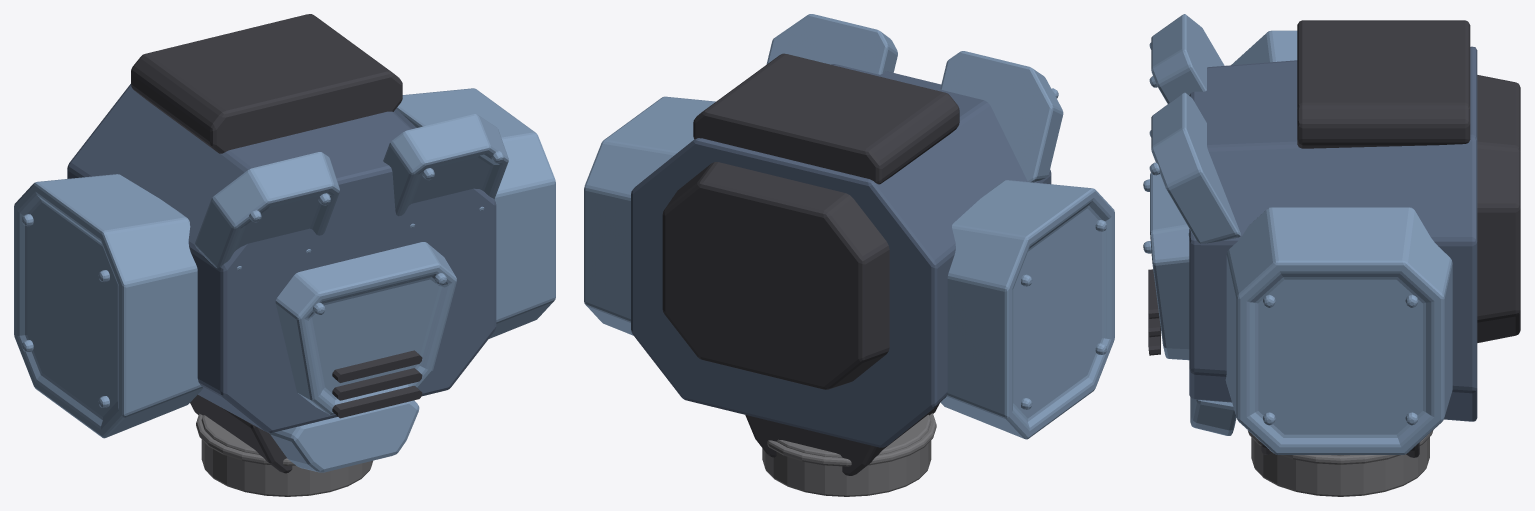
Rendered from recon_accurate_core.glb.
The picture shows the model from 3 angles, left to right: view 1: azimuth 30°, elevation 25°; view 2: azimuth 150°, elevation 25°; view 3: azimuth 270°, elevation 25°; orthographic projection. The views are drawn at different scales.
Visible parts, largest first — view 1: Chest, ChestSide1, Collar, ChestCenter, ChestSide, ChestUpper1, ChestUpper, Belly, Waist, Abdomen, ChestVent, ChestVent1 (+1 smaller); view 2: Chest, Back, ChestSide1, Collar, ChestSide, ChestUpper1, Waist, ChestUpper, Abdomen; view 3: ChestSide, Chest, Collar, Back, ChestUpper, Waist, ChestCenter, ChestUpper1, ChestSide1, Belly, ChestVent.
Part boxes in pixels (box(x1,y1,x2,y2)): Chest: box(67, 84, 496, 432); ChestSide1: box(14, 174, 203, 438); Collar: box(131, 14, 402, 153); ChestCenter: box(275, 242, 456, 414); ChestSide: box(396, 88, 555, 338); ChestUpper1: box(194, 152, 339, 270); ChestUpper: box(383, 114, 508, 227); Belly: box(269, 400, 419, 472); Waist: box(196, 413, 372, 496); Abdomen: box(190, 394, 292, 473); ChestVent: box(332, 350, 422, 382); ChestVent1: box(332, 368, 422, 400); Chest: box(631, 64, 1051, 447); Back: box(662, 162, 889, 389); ChestSide1: box(940, 180, 1114, 439); Collar: box(693, 53, 959, 184); ChestSide: box(584, 96, 715, 335); ChestUpper1: box(940, 51, 1063, 182); Waist: box(762, 413, 936, 496); ChestUpper: box(766, 14, 897, 74); Abdomen: box(745, 403, 939, 475); ChestSide: box(1225, 207, 1452, 454); Chest: box(1189, 46, 1477, 421); Collar: box(1297, 20, 1470, 148); Back: box(1477, 75, 1520, 342); ChestUpper: box(1149, 92, 1240, 243); Waist: box(1247, 430, 1433, 496); ChestCenter: box(1143, 172, 1189, 360); ChestUpper1: box(1149, 14, 1224, 103); ChestSide1: box(1231, 30, 1297, 65); Belly: box(1190, 397, 1236, 435); ChestVent: box(1148, 269, 1159, 318).
Bounding box in the file's own units: 3.76 × 3.05 × 2.62.
